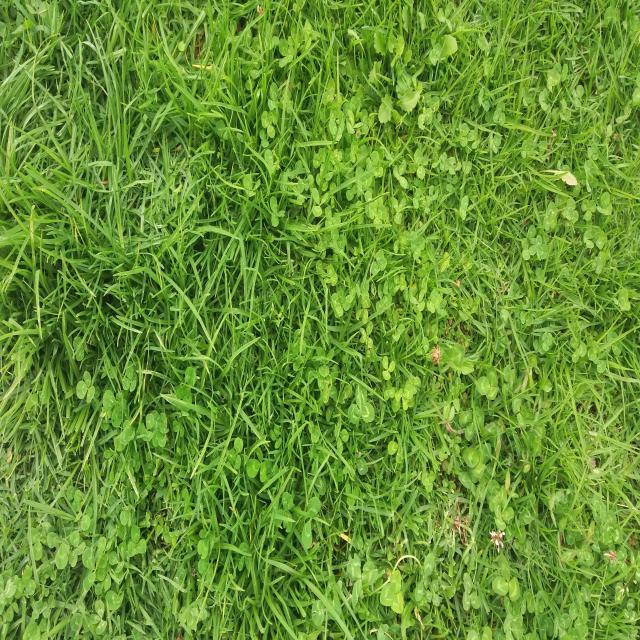Four Leaf Clover: (393, 273, 407, 293)
